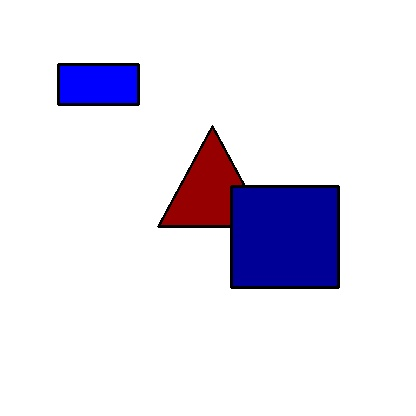rectangle: (231, 186, 338, 287), (58, 64, 138, 104)
triangle: (158, 126, 266, 226)
